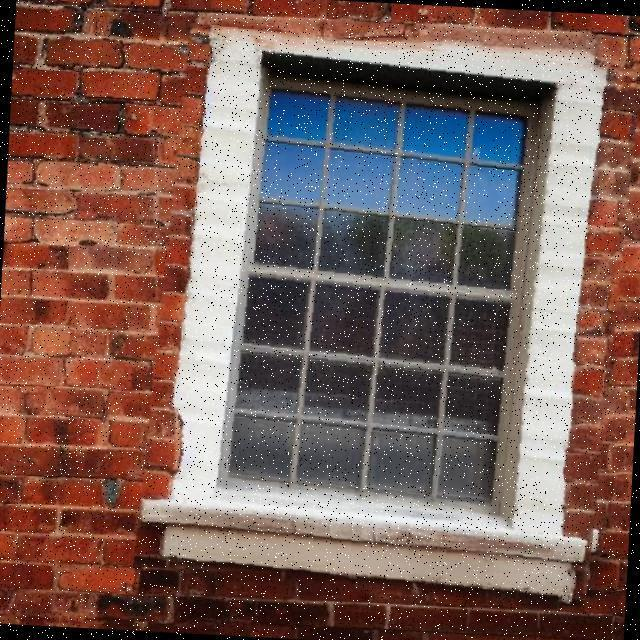window: (236, 65, 534, 502)
